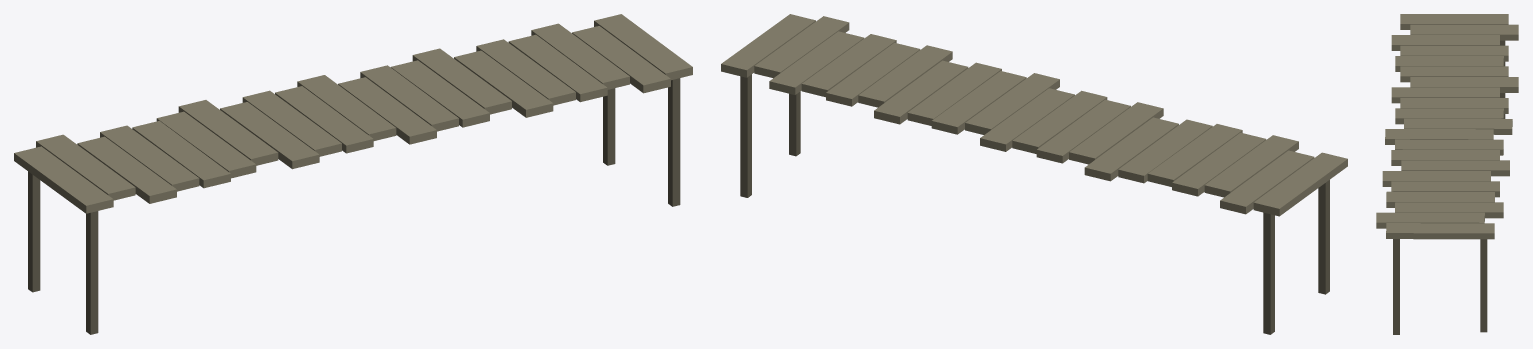
The model's file is Dock_Final_Version.fbx.
The picture shows the model from 3 angles, left to right: view 1: azimuth 30°, elevation 25°; view 2: azimuth 150°, elevation 25°; view 3: azimuth 270°, elevation 25°; orthographic projection. The views are drawn at different scales.
Parts seen in each view (by area): view 1: Dock_planks_main, pCube26, pCube28, pCube27, pCube5; view 2: Dock_planks_main, pCube5, pCube27, pCube28, pCube26; view 3: Dock_planks_main, pCube5, pCube26.
Part boxes in pixels (x1,y1,x2,y2): Dock_planks_main: (14,14,692,213); pCube26: (668,78,680,206); pCube28: (86,211,98,334); pCube27: (28,171,40,292); pCube5: (603,88,615,165); Dock_planks_main: (721,14,1347,216); pCube5: (740,74,751,197); pCube27: (1263,212,1274,334); pCube28: (1318,180,1329,294); pCube26: (789,91,800,156); Dock_planks_main: (1376,14,1518,239); pCube5: (1480,239,1487,332); pCube26: (1393,239,1399,334).
Bounding box in the file's own units: 18.69 × 4.17 × 5.13.
